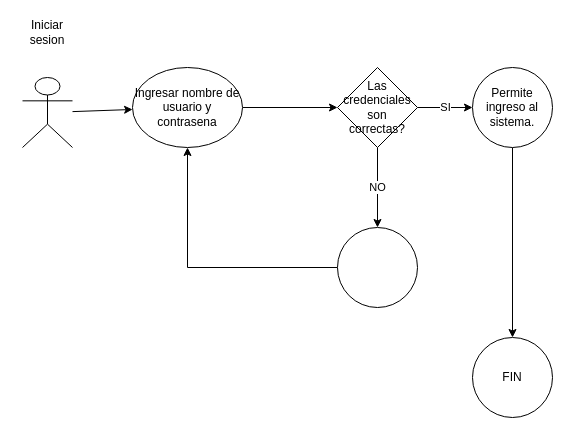
Image size: 570x435. Some labels were removed from this diagram. Here are the shapes that lost their labels. From the top down, the centre of each, then its label:
the point at 47,112: Usuario
the point at 377,267: Muestra mensaje de error usuario o clave incorrecto.
